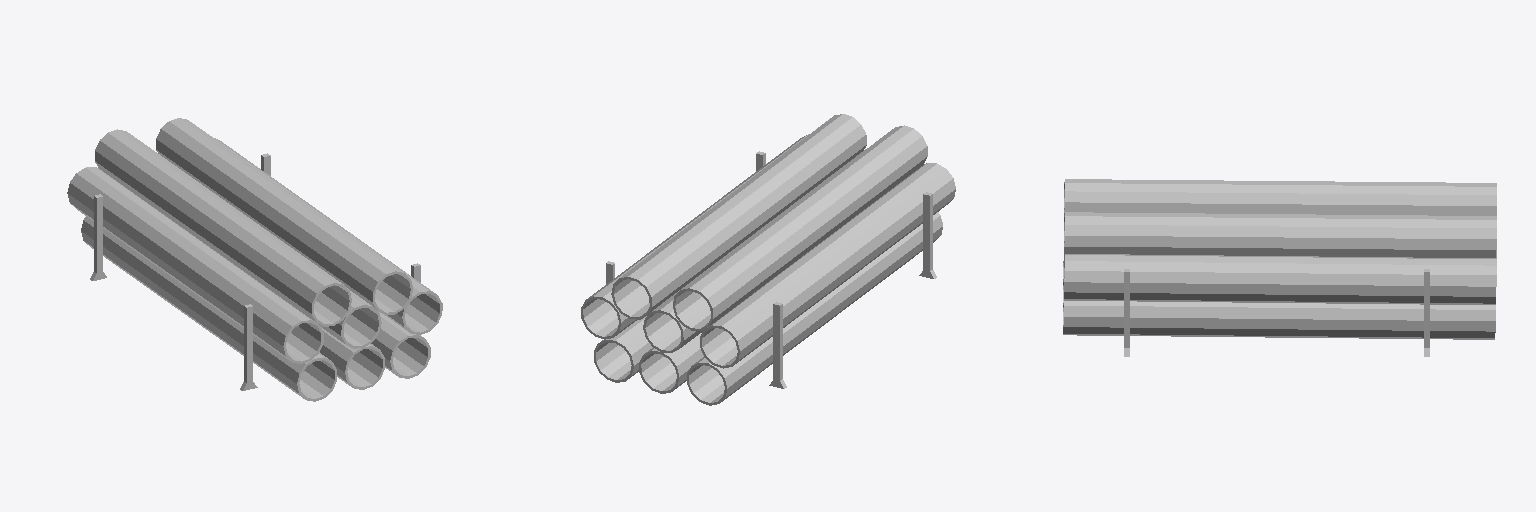
The model's file is truby.obj.
3 views of the same model, side by side, from view 1: azimuth 30°, elevation 25°; view 2: azimuth 150°, elevation 25°; view 3: azimuth 270°, elevation 25° (orthographic).
Parts seen in each view (by area): view 1: rusted, tube7, tube4, tube3, tube2, tube1, tube5, tube8, kreplenie3, kreplenie4; view 2: rusted, tube7, tube4, tube3, tube5, tube2, tube1, tube8, kreplenie4, kreplenie3; view 3: tube5, tube7, tube2, rusted, kreplenie, kreplenie2.
Part boxes in pixels (bbox=[...]): rusted: bbox=[95, 129, 351, 326]; tube7: bbox=[156, 118, 412, 314]; tube4: bbox=[67, 167, 323, 363]; tube3: bbox=[81, 216, 336, 401]; tube2: bbox=[371, 312, 430, 378]; tube1: bbox=[320, 327, 384, 389]; tube5: bbox=[214, 138, 442, 334]; tube8: bbox=[319, 288, 381, 348]; kreplenie3: bbox=[90, 194, 106, 280]; kreplenie4: bbox=[240, 304, 257, 390]; rusted: bbox=[673, 125, 927, 330]; tube7: bbox=[611, 114, 866, 319]; tube4: bbox=[700, 163, 955, 368]; tube3: bbox=[687, 212, 942, 405]; tube5: bbox=[581, 134, 808, 339]; tube2: bbox=[594, 316, 652, 382]; tube1: bbox=[639, 333, 703, 393]; tube8: bbox=[643, 149, 865, 352]; kreplenie4: bbox=[919, 192, 936, 278]; kreplenie3: bbox=[769, 302, 786, 388]; tube5: bbox=[1064, 254, 1496, 304]; tube7: bbox=[1064, 212, 1496, 258]; tube2: bbox=[1063, 301, 1495, 339]; rusted: bbox=[1064, 179, 1496, 215]; kreplenie: bbox=[1124, 269, 1129, 356]; kreplenie2: bbox=[1424, 269, 1429, 356].
Size of the model in its own units: 8.93 by 5.51 by 18.39.